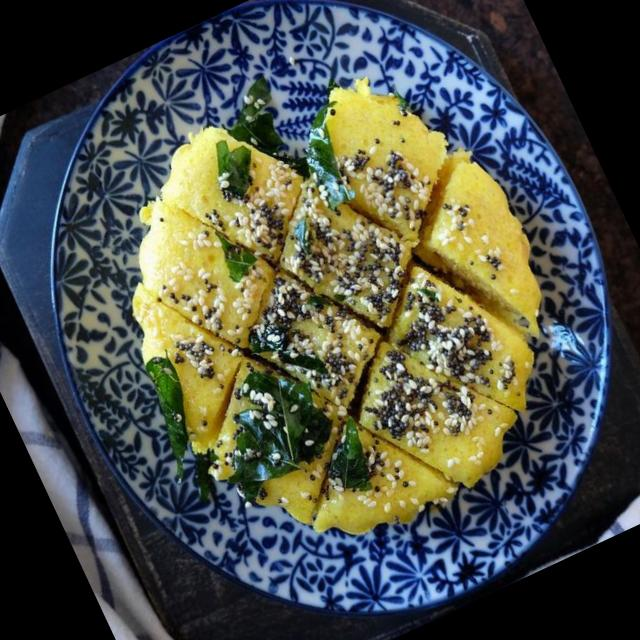dhokla: (88, 52, 598, 574)
